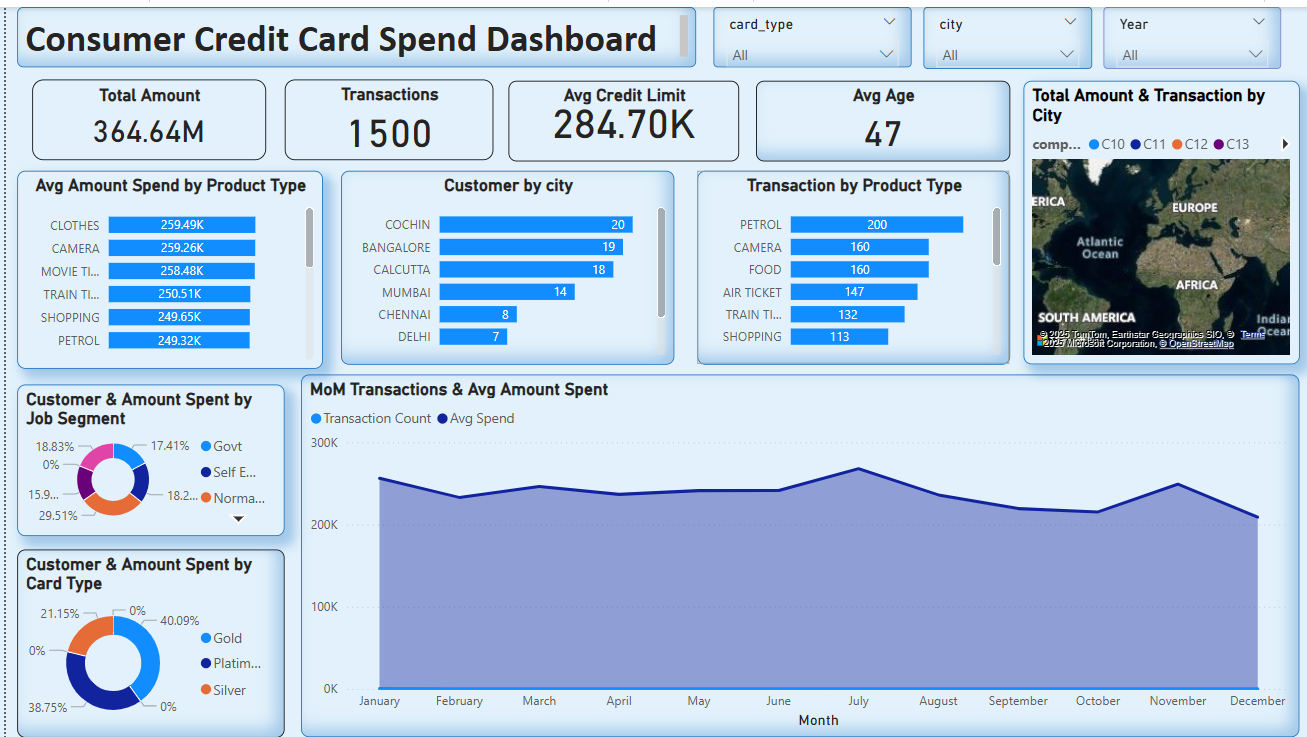

What the dashboard file says about the page in this screenshot:
{"tool":"powerbi","page":{"name":"Dashboard","canvas":[1280,720],"ordinal":0},"visuals":[{"type":"barChart","title":"Avg Amount Spend by Product Type","fields":{"Category":["spend.product_type"],"Y":["customer.Avg Spend"]},"box":[11.5,160.1,300.1,194.8],"z":0},{"type":"barChart","title":"Transaction by Product Type","fields":{"Category":["spend.product_type"],"Y":["customer.Transaction Count"]},"box":[678.1,160.1,307.3,190.4],"z":1000},{"type":"barChart","title":"Customer by city","fields":{"Category":["customer.city"],"Y":["customer.Customer Count"]},"box":[328.9,160.1,327.5,190.4],"z":2000},{"type":"donutChart","title":"Customer & Amount Spent by Card Type","fields":{"Category":["customer.card_type"],"Y":["customer.Customer Count","customer.Total Amount Spent"]},"box":[11.5,532.4,262.6,184.7],"z":3000},{"type":"donutChart","title":"Customer & Amount Spent by Job Segment","fields":{"Y":["customer.Customer Count","customer.Total Amount Spent"],"Category":["customer.job_segment"]},"box":[11.5,370.8,262.6,148.6],"z":4000},{"type":"areaChart","title":"MoM Transactions & Avg Amount Spent","fields":{"Category":["spend.date.Variation.Date Hierarchy.Month"],"Y":["customer.Transaction Count","customer.Avg Spend"]},"box":[290,360.7,979.6,356.4],"z":5000},{"type":"filledMap","title":"Total Amount & Transaction by City","fields":{"Series":["customer.company"]},"box":[998.4,72.1,271.2,278.5],"z":6000},{"type":"textbox","box":[11.5,0,666.6,59.2],"z":7000},{"type":"card","title":"Total Amount","fields":{"Values":["customer.Total Amount Spent"]},"box":[26,70.7,229.4,79.4],"z":8000},{"type":"card","title":"Transactions","fields":{"Values":["customer.Transaction Count"]},"box":[274.1,70.7,204.9,79.4],"z":9000},{"type":"card","title":"Avg Credit Limit","fields":{"Values":["customer.Avg Credit Limit"]},"box":[493.4,72.1,226.5,79.4],"z":10000},{"type":"card","title":"Avg Age","fields":{"Values":["customer.Avg Age"]},"box":[735.8,72.1,249.6,79.4],"z":11000},{"type":"slicer","fields":{"Values":["customer.card_type"]},"box":[694,0,194.8,59.2],"z":12000},{"type":"slicer","fields":{"Values":["customer.city"]},"box":[900.3,0,165.9,60.6],"z":13000},{"type":"slicer","fields":{"Values":["repayment.date.Variation.Date Hierarchy.Year"]},"box":[1077.7,0,174.6,60.6],"z":14000}]}

Visuals, with their boxes in screenshot pixels (x1, y1, x2, y2), scaled from the page's 1280x720 canvas onto the 1307x737 screenshot:
"Avg Amount Spend by Product Type" barChart: (12, 164, 318, 363)
"Transaction by Product Type" barChart: (692, 164, 1006, 359)
"Customer by city" barChart: (336, 164, 670, 359)
"Customer & Amount Spent by Card Type" donutChart: (12, 545, 280, 734)
"Customer & Amount Spent by Job Segment" donutChart: (12, 380, 280, 532)
"MoM Transactions & Avg Amount Spent" areaChart: (296, 369, 1296, 734)
"Total Amount & Transaction by City" filledMap: (1019, 74, 1296, 359)
textbox: (12, 0, 692, 61)
"Total Amount" card: (27, 72, 261, 154)
"Transactions" card: (280, 72, 489, 154)
"Avg Credit Limit" card: (504, 74, 735, 155)
"Avg Age" card: (751, 74, 1006, 155)
slicer - customer.card_type: (709, 0, 908, 61)
slicer - customer.city: (919, 0, 1089, 62)
slicer - repayment.date.Variation.Date Hierarchy.Year: (1100, 0, 1279, 62)
